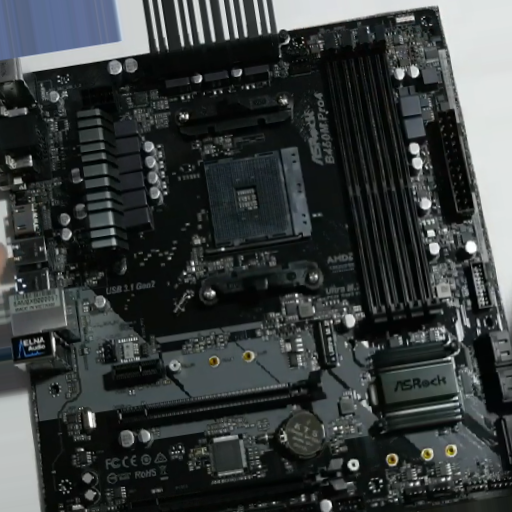CPU: (200, 154, 311, 252)
GPU: (122, 456, 347, 512), (117, 370, 327, 428)
MOTHERBOARD: (9, 5, 512, 509)
RAM: (321, 25, 442, 327)
SSD: (495, 418, 512, 468), (321, 322, 339, 367)
